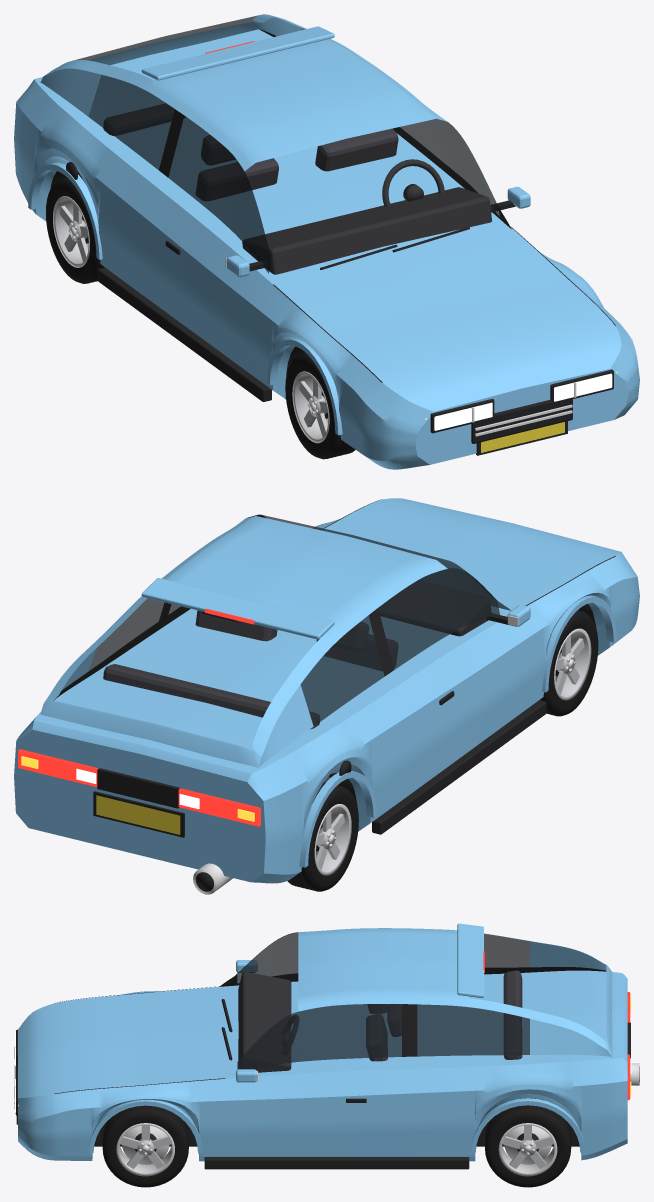
Rendered from civik.glb.
3 renders of one model, top to bottom at view 1: azimuth 30°, elevation 25°; view 2: azimuth 150°, elevation 25°; view 3: azimuth 270°, elevation 25°, orthographic. The views are drawn at different scales.
Visible parts, largest first — view 1: hood, cabin_roof, tub, nose, cabin_glass, door_R, quarter_R, dash, fender_R, wheel_FR, wheel_RR, skirt_R (+16 smaller); view 2: cabin_roof, tail, tub, cabin_glass, hood, door_R, quarter_R, fender_R, wheel_RR, spoiler, dash, wheel_FR (+14 smaller); view 3: tub, cabin_roof, cabin_glass, hood, door_L, quarter_L, fender_L, wheel_RL, wheel_FL, nose, tail, dash (+9 smaller).
Part boxes in pixels (x1=…): hood: x1=274, y1=227, x2=615, y2=382; cabin_roof: x1=40, y1=14, x2=446, y2=171; tub: x1=45, y1=36, x2=508, y2=284; nose: x1=364, y1=326, x2=639, y2=469; cabin_glass: x1=73, y1=15, x2=499, y2=273; door_R: x1=144, y1=192, x2=272, y2=378; quarter_R: x1=26, y1=92, x2=162, y2=297; dash: x1=242, y1=187, x2=492, y2=274; fender_R: x1=255, y1=285, x2=382, y2=463; wheel_FR: x1=285, y1=353, x2=355, y2=459; wheel_RR: x1=46, y1=174, x2=104, y2=283; skirt_R: x1=97, y1=267, x2=271, y2=401; cabin_roof: x1=40, y1=516, x2=447, y2=767; tail: x1=14, y1=712, x2=291, y2=883; tub: x1=54, y1=609, x2=507, y2=762; cabin_glass: x1=88, y1=515, x2=511, y2=726; hood: x1=322, y1=499, x2=614, y2=613; door_R: x1=400, y1=622, x2=529, y2=789; quarter_R: x1=273, y1=684, x2=418, y2=883; fender_R: x1=519, y1=556, x2=633, y2=708; wheel_RR: x1=287, y1=782, x2=358, y2=891; spoiler: x1=141, y1=578, x2=334, y2=639; dash: x1=378, y1=580, x2=491, y2=636; wheel_FR: x1=540, y1=610, x2=598, y2=716; tub: x1=225, y1=970, x2=597, y2=1078; cabin_roof: x1=298, y1=928, x2=612, y2=1056; cabin_glass: x1=237, y1=932, x2=529, y2=1069; hood: x1=54, y1=986, x2=225, y2=1093; door_L: x1=225, y1=1069, x2=401, y2=1156; quarter_L: x1=402, y1=1060, x2=597, y2=1161; fender_L: x1=54, y1=1079, x2=225, y2=1161; wheel_RL: x1=485, y1=1105, x2=571, y2=1187; wheel_FL: x1=102, y1=1105, x2=188, y2=1187; nose: x1=18, y1=1003, x2=54, y2=1160; tail: x1=597, y1=971, x2=627, y2=1156; dash: x1=238, y1=971, x2=291, y2=1072.
Bounding box in the file's own units: 1.82 × 1.34 × 4.21.
